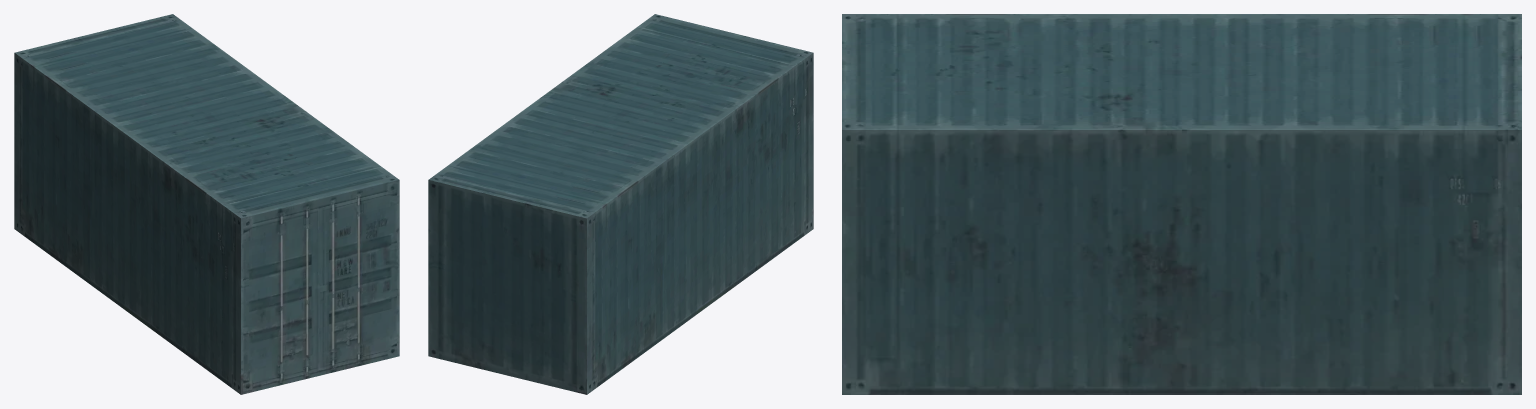
Rendered from container_b.glb.
The picture shows the model from 3 angles, left to right: view 1: azimuth 30°, elevation 25°; view 2: azimuth 150°, elevation 25°; view 3: azimuth 270°, elevation 25°; orthographic projection. The views are drawn at different scales.
Visible parts, largest first — view 1: Crate.002; view 2: Crate.002; view 3: Crate.002.
Part boxes in pixels (x1,y1,x2,y2): Crate.002: (14, 14, 399, 394); Crate.002: (428, 14, 813, 394); Crate.002: (842, 14, 1521, 394).
Bounding box in the file's own units: 2.43 × 2.59 × 6.02.
Materials: 1 (1 with a texture image).
